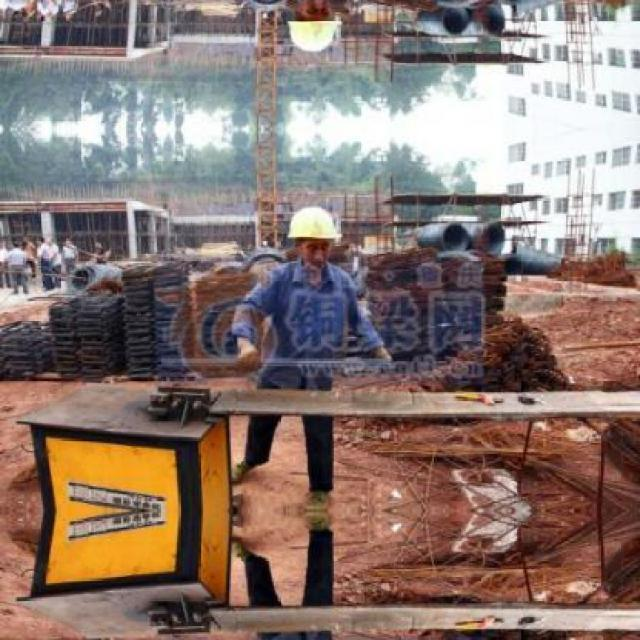hat: (276, 198, 350, 268)
